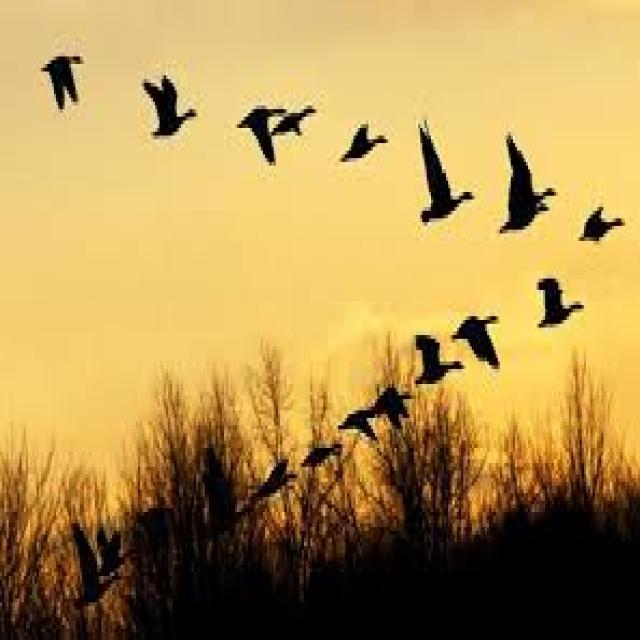bird: (408, 120, 480, 234), (130, 54, 208, 152), (447, 282, 521, 384), (494, 139, 558, 256), (30, 30, 101, 121), (338, 80, 392, 186), (194, 450, 246, 559), (237, 77, 284, 179), (530, 269, 588, 345), (415, 326, 458, 420), (65, 536, 114, 616), (576, 192, 628, 264), (256, 448, 306, 520), (280, 72, 313, 170), (383, 361, 416, 452), (303, 422, 346, 478), (337, 386, 376, 438)
